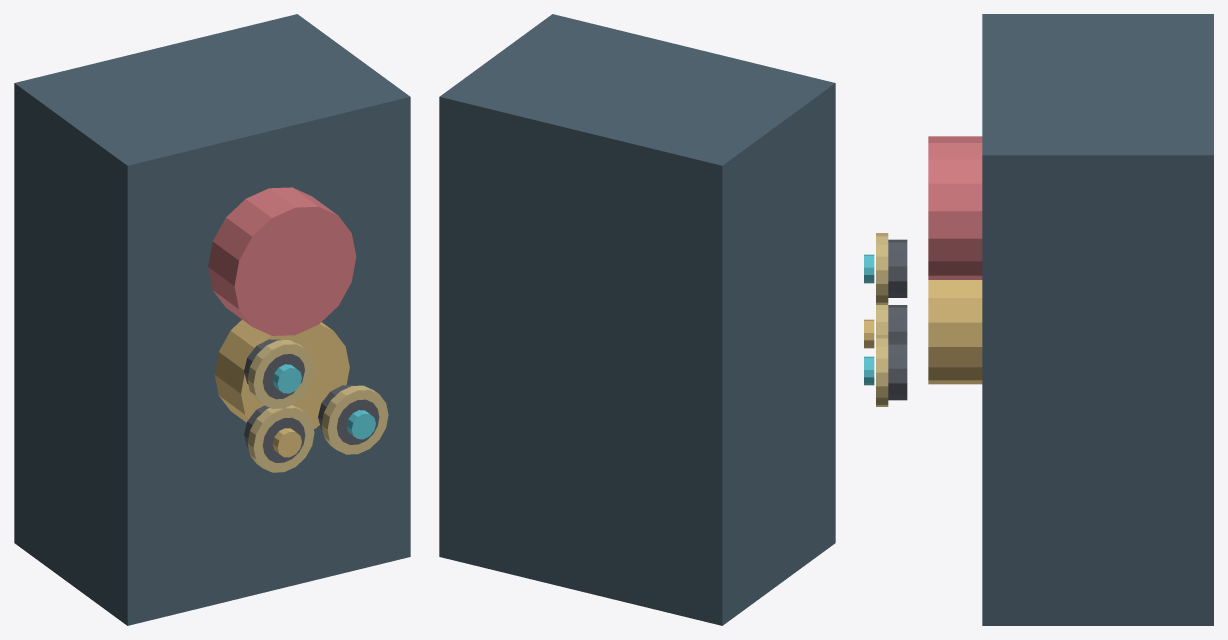
The model's file is 49_L82_ChamberDoorInterlockSwitch.glb.
3 views of the same model, side by side, from view 1: azimuth 30°, elevation 25°; view 2: azimuth 150°, elevation 25°; view 3: azimuth 270°, elevation 25° (orthographic). The views are drawn at different scales.
Visible parts, largest first — view 1: ChamberDoorInterlockSwitch_Node_0000, ChamberDoorInterlockSwitch_Node_0001, ChamberDoorInterlockSwitch_Node_0003, ChamberDoorInterlockSwitch_Node_0008, ChamberDoorInterlockSwitch_Node_0011, ChamberDoorInterlockSwitch_Node_0005, ChamberDoorInterlockSwitch_Node_0010, ChamberDoorInterlockSwitch_Node_0007, ChamberDoorInterlockSwitch_Node_0004, ChamberDoorInterlockSwitch_Node_0012, ChamberDoorInterlockSwitch_Node_0006, ChamberDoorInterlockSwitch_Node_0009; view 2: ChamberDoorInterlockSwitch_Node_0000; view 3: ChamberDoorInterlockSwitch_Node_0000, ChamberDoorInterlockSwitch_Node_0001, ChamberDoorInterlockSwitch_Node_0003, ChamberDoorInterlockSwitch_Node_0007, ChamberDoorInterlockSwitch_Node_0010, ChamberDoorInterlockSwitch_Node_0008, ChamberDoorInterlockSwitch_Node_0011, ChamberDoorInterlockSwitch_Node_0004.
Part boxes in pixels (left/top/right/bottom): ChamberDoorInterlockSwitch_Node_0000: left=14, top=14, right=410, bottom=625; ChamberDoorInterlockSwitch_Node_0001: left=208, top=187, right=356, bottom=335; ChamberDoorInterlockSwitch_Node_0003: left=214, top=319, right=349, bottom=428; ChamberDoorInterlockSwitch_Node_0008: left=321, top=385, right=388, bottom=454; ChamberDoorInterlockSwitch_Node_0011: left=247, top=340, right=314, bottom=408; ChamberDoorInterlockSwitch_Node_0005: left=247, top=405, right=314, bottom=472; ChamberDoorInterlockSwitch_Node_0010: left=244, top=339, right=304, bottom=399; ChamberDoorInterlockSwitch_Node_0007: left=318, top=385, right=378, bottom=444; ChamberDoorInterlockSwitch_Node_0004: left=244, top=405, right=304, bottom=462; ChamberDoorInterlockSwitch_Node_0012: left=272, top=364, right=301, bottom=393; ChamberDoorInterlockSwitch_Node_0006: left=272, top=428, right=301, bottom=457; ChamberDoorInterlockSwitch_Node_0009: left=346, top=410, right=375, bottom=439; ChamberDoorInterlockSwitch_Node_0000: left=439, top=14, right=835, bottom=625; ChamberDoorInterlockSwitch_Node_0000: left=982, top=14, right=1213, bottom=625; ChamberDoorInterlockSwitch_Node_0001: left=928, top=136, right=982, bottom=279; ChamberDoorInterlockSwitch_Node_0003: left=928, top=280, right=982, bottom=384; ChamberDoorInterlockSwitch_Node_0007: left=888, top=342, right=907, bottom=400; ChamberDoorInterlockSwitch_Node_0010: left=888, top=239, right=907, bottom=297; ChamberDoorInterlockSwitch_Node_0008: left=876, top=335, right=888, bottom=406; ChamberDoorInterlockSwitch_Node_0011: left=876, top=233, right=888, bottom=304; ChamberDoorInterlockSwitch_Node_0004: left=888, top=305, right=907, bottom=341.
Bounding box in the file's own units: 0.65 × 1.01 × 0.68.
